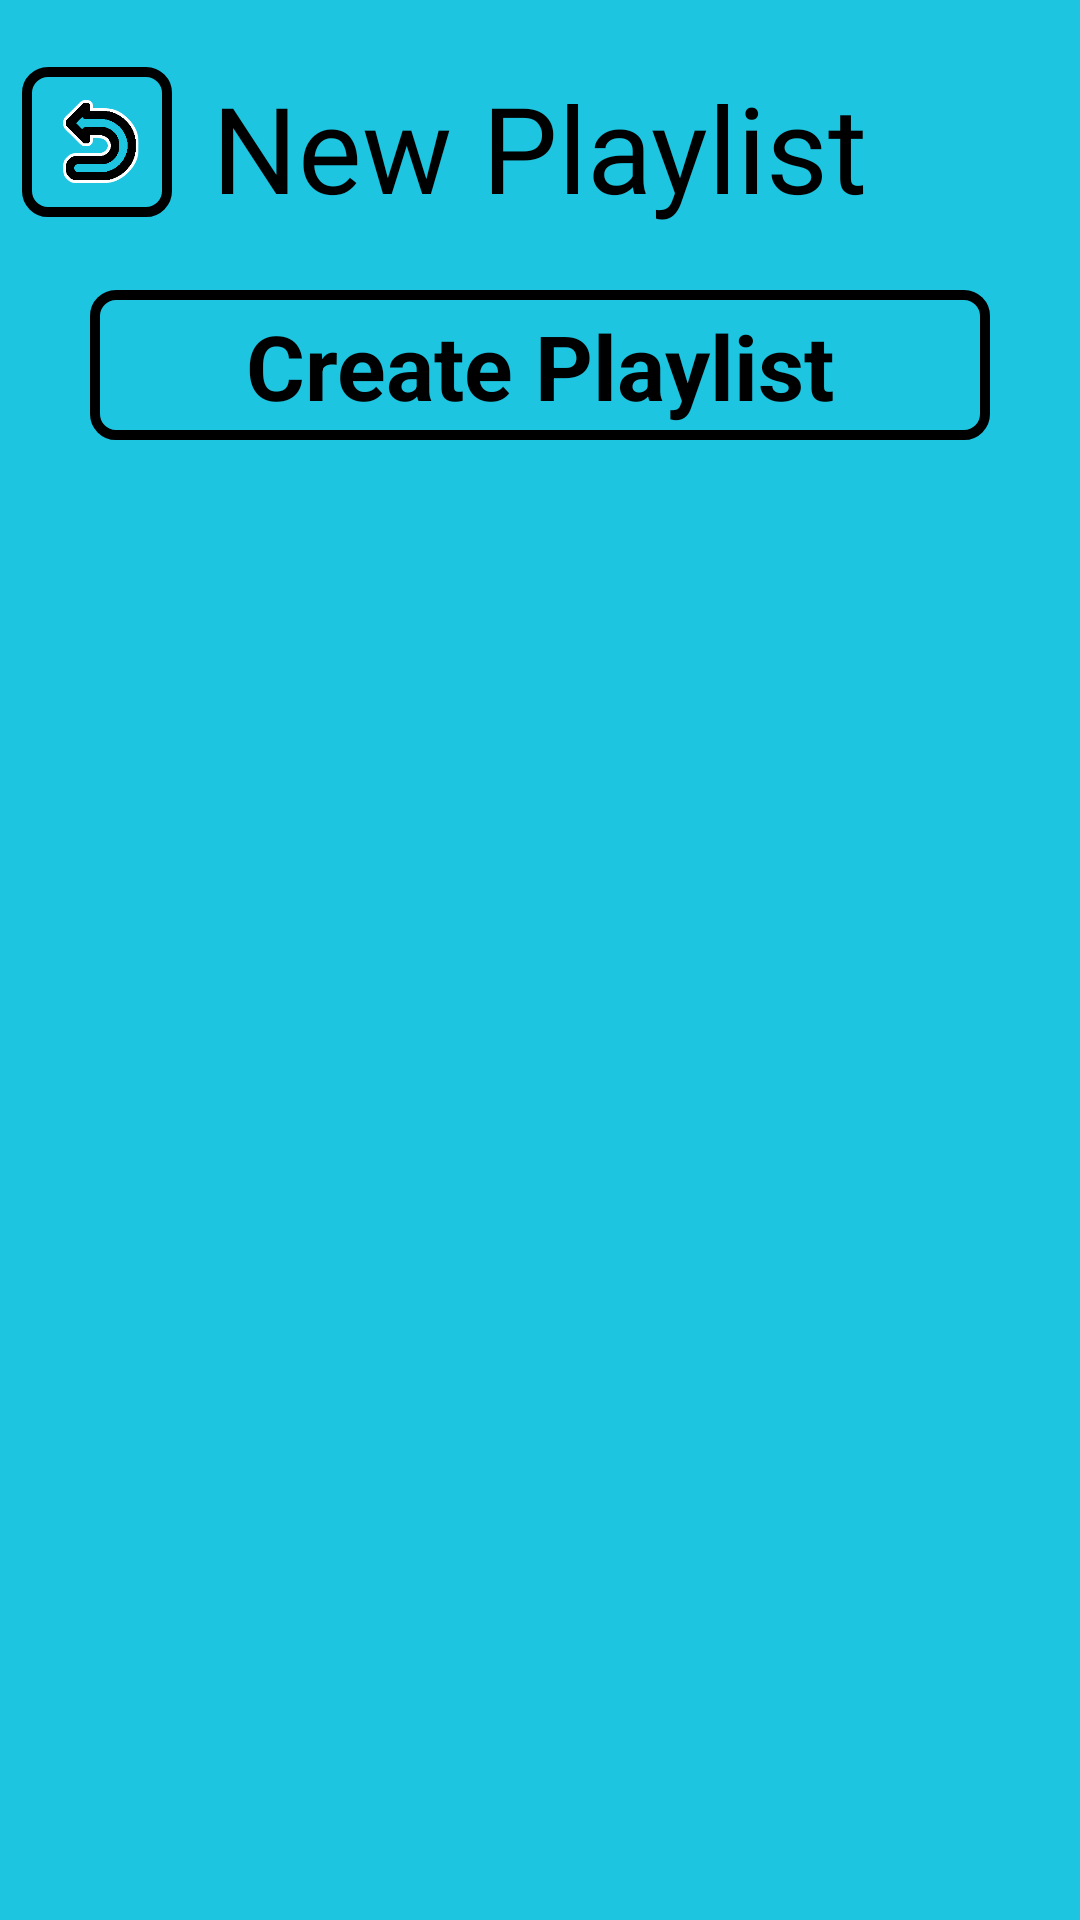

Icons on this 1080 × 1920 Android screen, each with its box as region(x1, y1, x2, y2):
back: region(63, 100, 139, 183)
